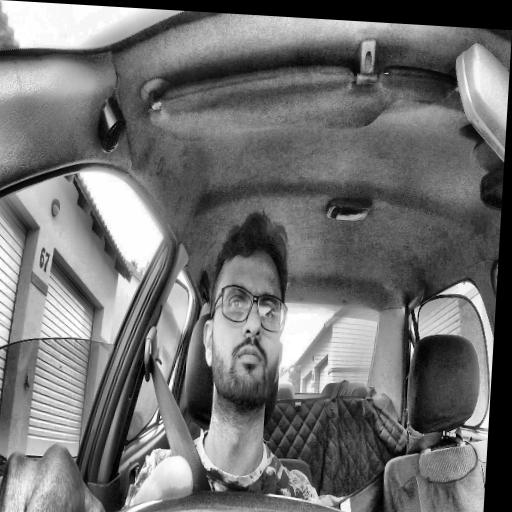awake: (199, 208, 294, 415)
